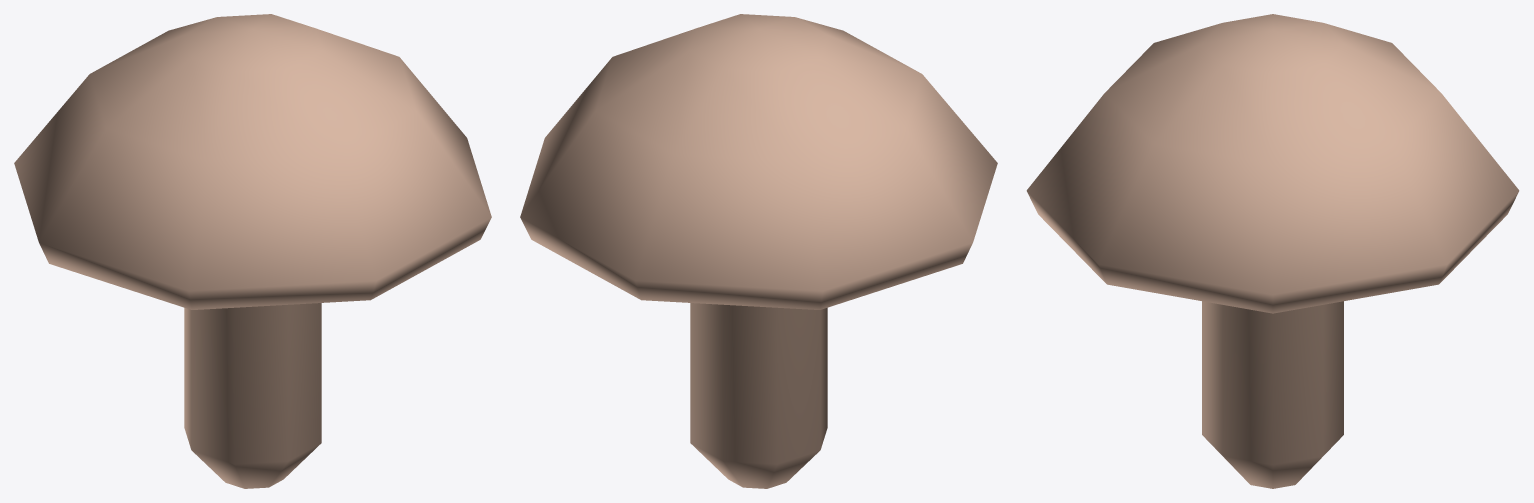
File: mushroom.glb
3 views of the same model, side by side, from view 1: azimuth 30°, elevation 25°; view 2: azimuth 150°, elevation 25°; view 3: azimuth 270°, elevation 25° (orthographic).
Visible parts, largest first — view 1: Mushroom.001; view 2: Mushroom.001; view 3: Mushroom.001.
Boxes of the visible parts, x1,y1,x2,y2 form: Mushroom.001: (14,14,491,488); Mushroom.001: (520,14,997,488); Mushroom.001: (1026,14,1519,488).
Bounding box in the file's own units: 0.1562 × 0.1557 × 0.1562.
Materials: 1 (1 with a texture image).
